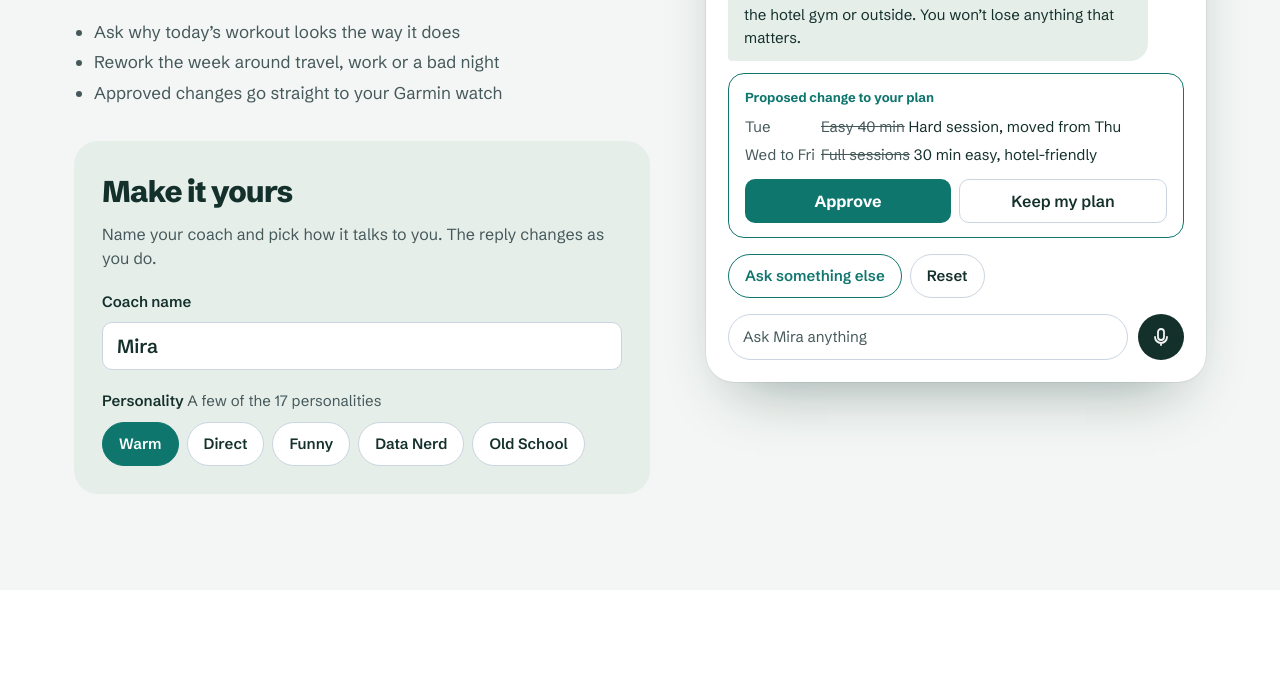
ask something else, reset and the try limit › Reset goes back to Mira, Warm, the first question, not approved
The width and height of the screenshot is (1280, 682).
(page scrolled)
Replace the text in the field with id "coach-name" with "Kip" at point(362, 346), box left=102, top=322, right=622, bottom=370
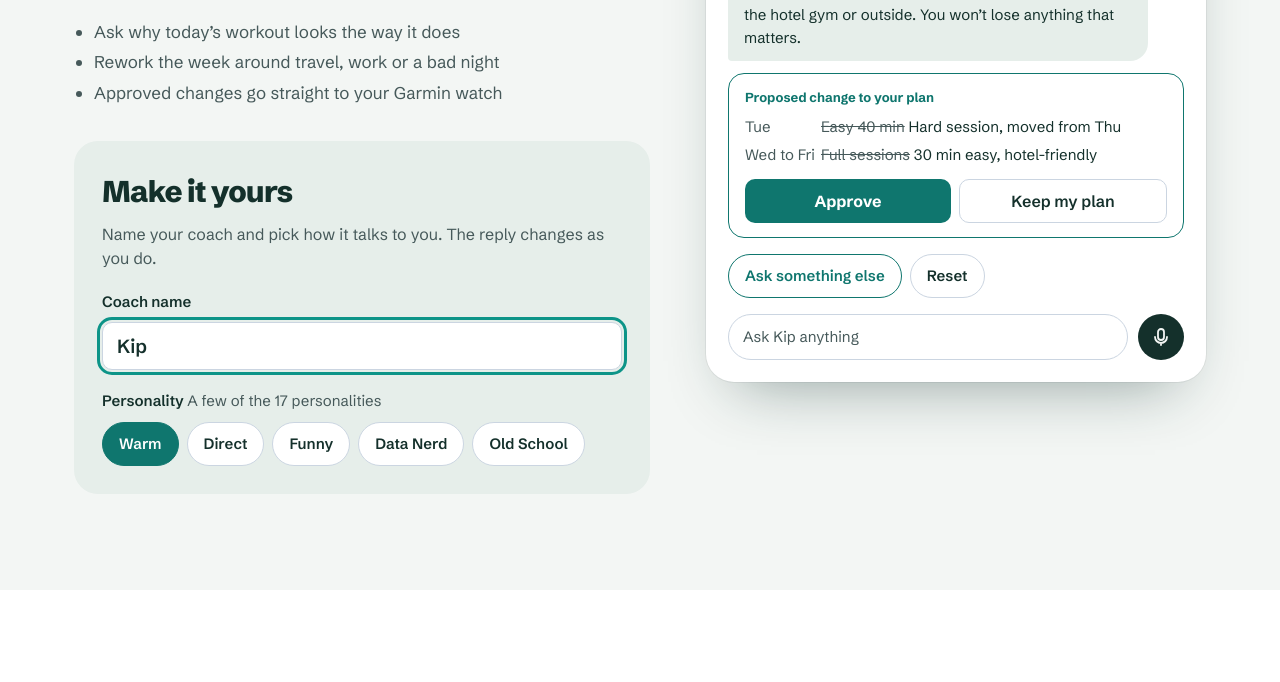
Click the button "Funny" at point(311, 444), box left=272, top=422, right=350, bottom=466
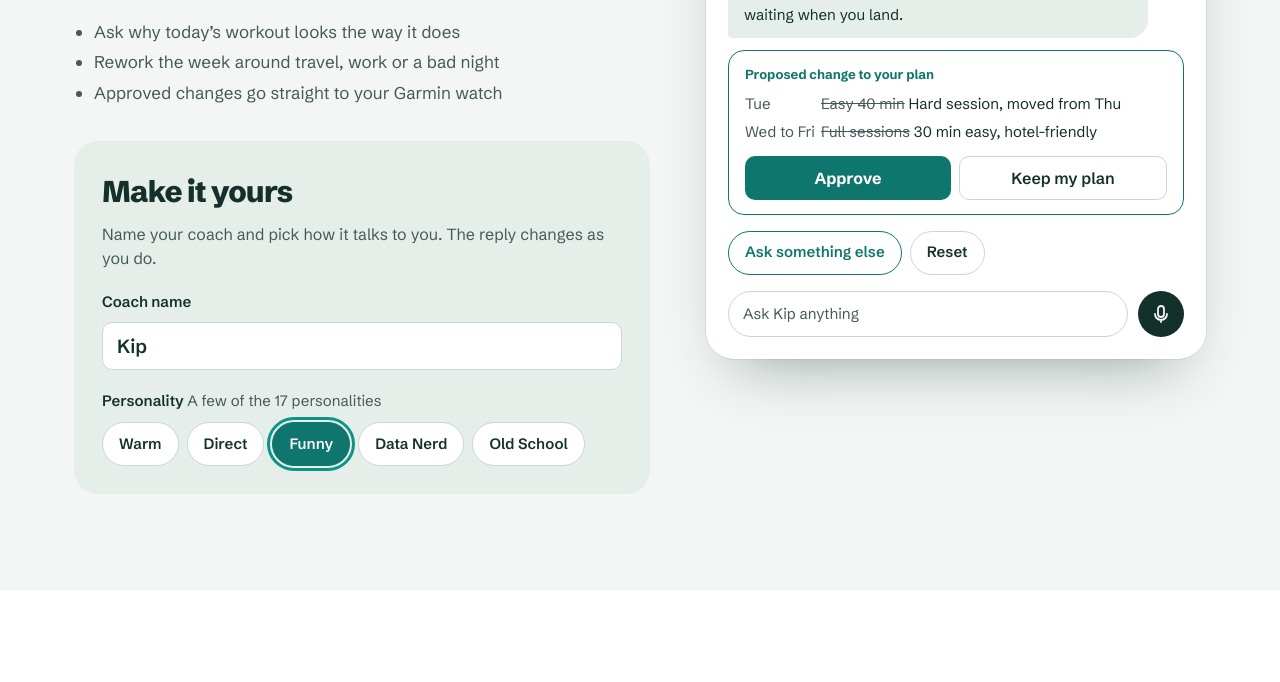
Click the button "Ask something else" at point(815, 253), box left=728, top=231, right=902, bottom=275
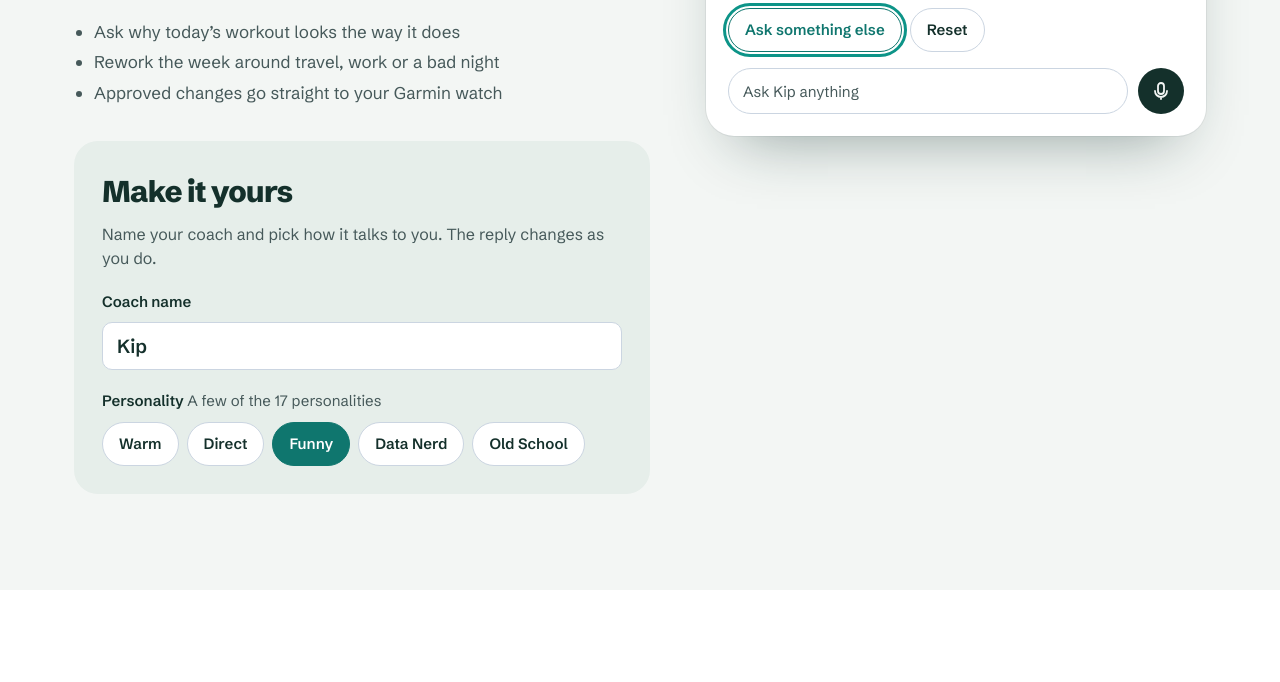
Click the button "Reset" at point(947, 30), box left=910, top=8, right=984, bottom=52
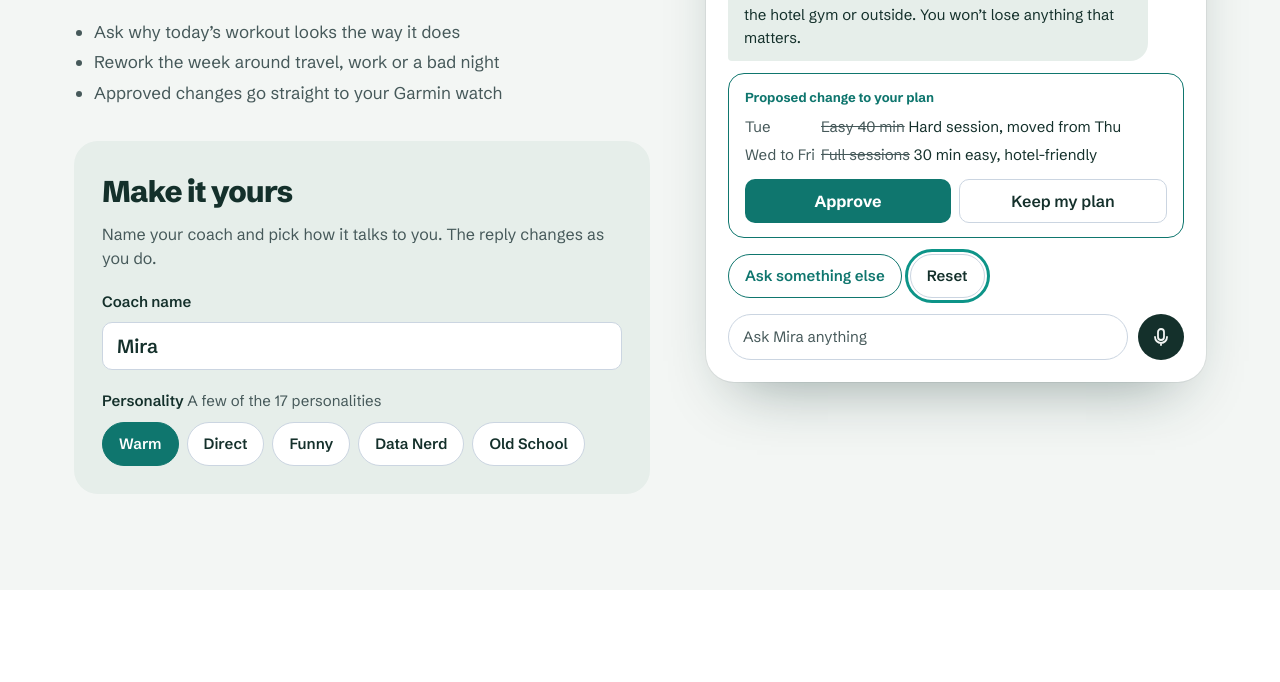
Expected: the field with id "coach-name" holds "Mira", left=102, top=322, right=622, bottom=370
Expected: the button "Approve" is shown, left=745, top=179, right=951, bottom=223
